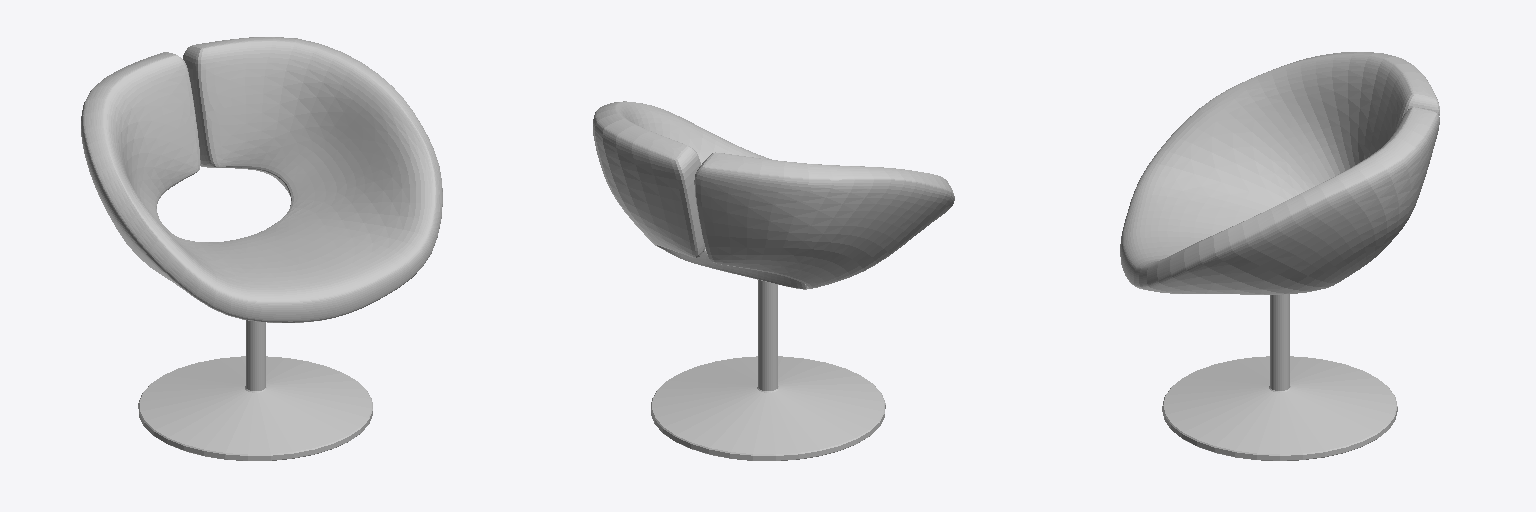
The model's file is armchair 002.obj.
The picture shows the model from 3 angles: view 1: azimuth 30°, elevation 25°; view 2: azimuth 150°, elevation 25°; view 3: azimuth 270°, elevation 25°; orthographic projection.
Visible parts, largest first — view 1: obj_01, obj_02; view 2: obj_01, obj_02; view 3: obj_01, obj_02.
Boxes of the visible parts, box(x1,y1,x2,y2) form: obj_01: box(81, 37, 442, 322); obj_02: box(138, 320, 372, 460); obj_01: box(593, 101, 954, 289); obj_02: box(651, 280, 885, 460); obj_01: box(1120, 52, 1439, 294); obj_02: box(1162, 294, 1397, 460).
Size of the model in its own units: 25.79 by 24.64 by 22.88.